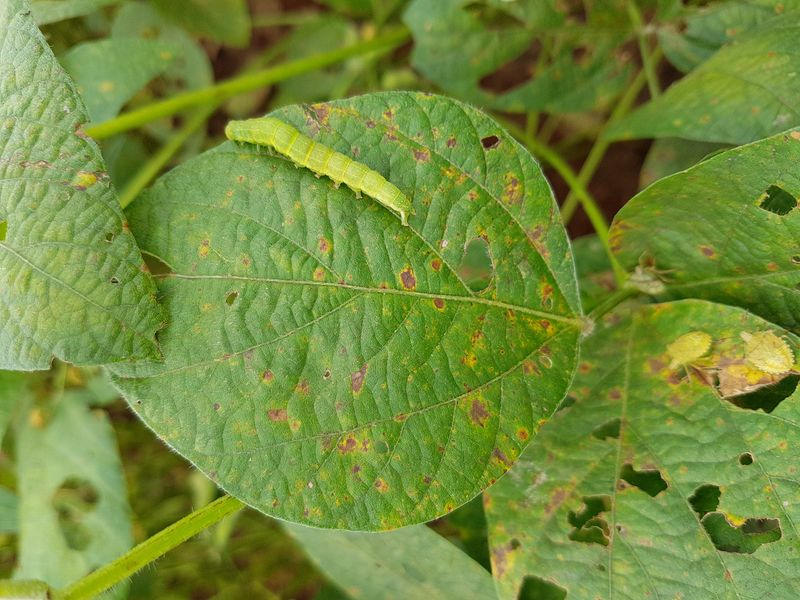Anticarsia_gemmatalis: (212, 103, 433, 241)
Euschistus_heros_ninfa: (652, 315, 726, 387), (731, 318, 800, 390), (615, 246, 677, 308)
